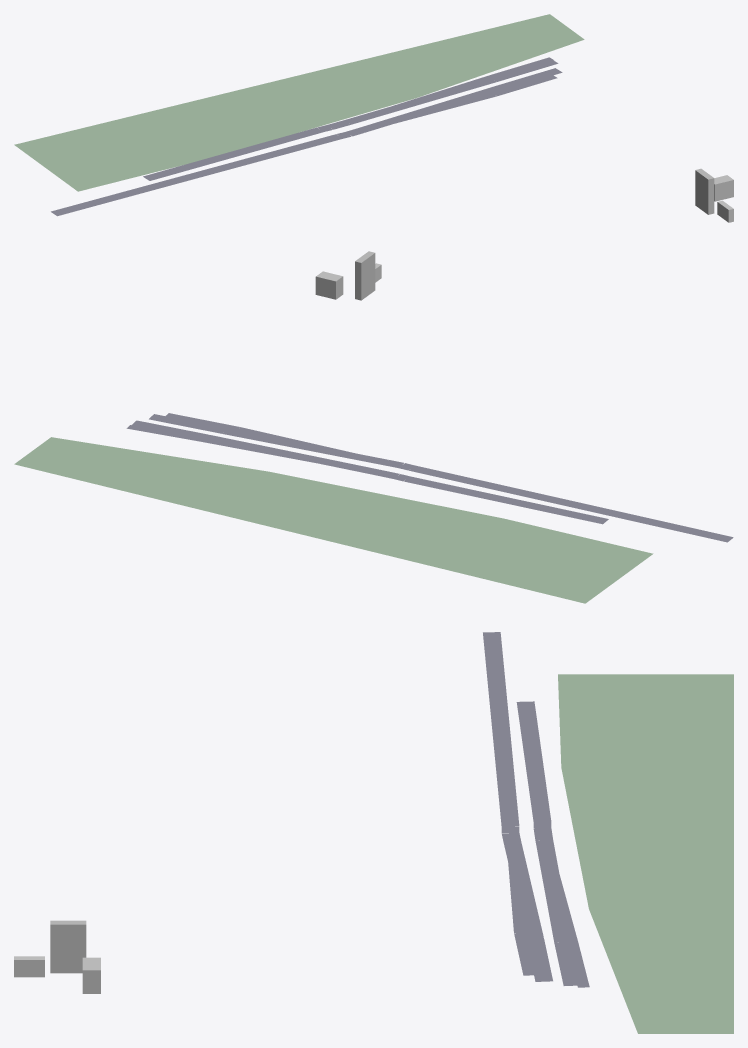
The model's file is 126_81_mid.glb.
3 views of the same model, one above another, from view 1: azimuth 30°, elevation 25°; view 2: azimuth 150°, elevation 25°; view 3: azimuth 270°, elevation 25° (orthographic). The views are drawn at different scales.
Size of the model in its own units: 545 by 34.27 by 423.
